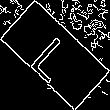L_NE: (27, 26, 83, 84)
